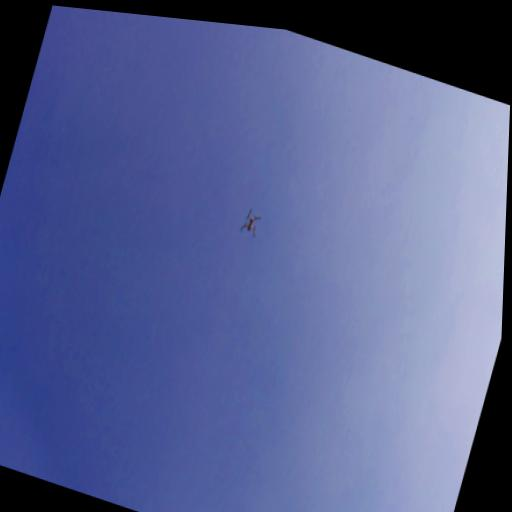drones: (237, 204, 264, 242)
